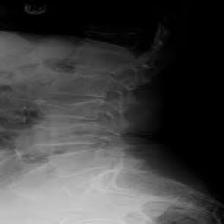compression-crush-fracture: (4, 0, 224, 224)
